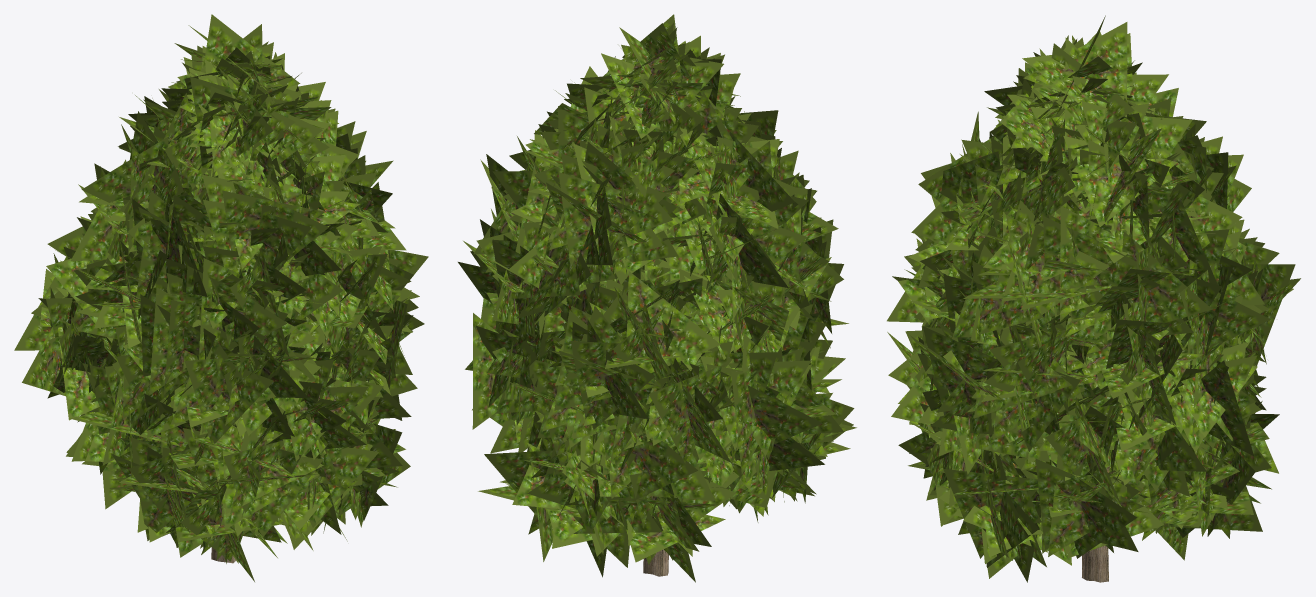
The model's file is Liquidambar_Styraciflua_Spring_Adult.glb.
3 renders of one model, left to right at view 1: azimuth 30°, elevation 25°; view 2: azimuth 150°, elevation 25°; view 3: azimuth 270°, elevation 25°, orthographic. The views are drawn at different scales.
Visible parts, largest first — view 1: Liquidambar_Styraciflua_Spring_Adult__LOD3; view 2: Liquidambar_Styraciflua_Spring_Adult__LOD3; view 3: Liquidambar_Styraciflua_Spring_Adult__LOD3.
Boxes of the visible parts, x1=… form: Liquidambar_Styraciflua_Spring_Adult__LOD3: x1=14, y1=14, x2=428, y2=581; Liquidambar_Styraciflua_Spring_Adult__LOD3: x1=458, y1=14, x2=856, y2=582; Liquidambar_Styraciflua_Spring_Adult__LOD3: x1=887, y1=15, x2=1300, y2=582.
Bounding box in the file's own units: 10.54 × 15.38 × 10.35.
Materials: 2 (2 with a texture image).
